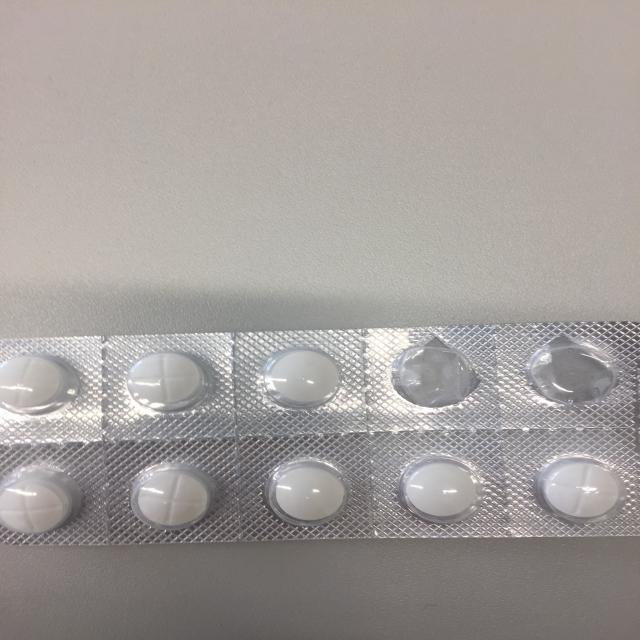Empty: (518, 334, 628, 408), (382, 339, 489, 410)
Pill: (529, 450, 633, 525), (256, 453, 360, 524), (396, 449, 489, 528), (122, 457, 218, 532), (116, 348, 218, 416), (251, 344, 352, 412), (0, 465, 88, 542), (0, 350, 82, 416)
